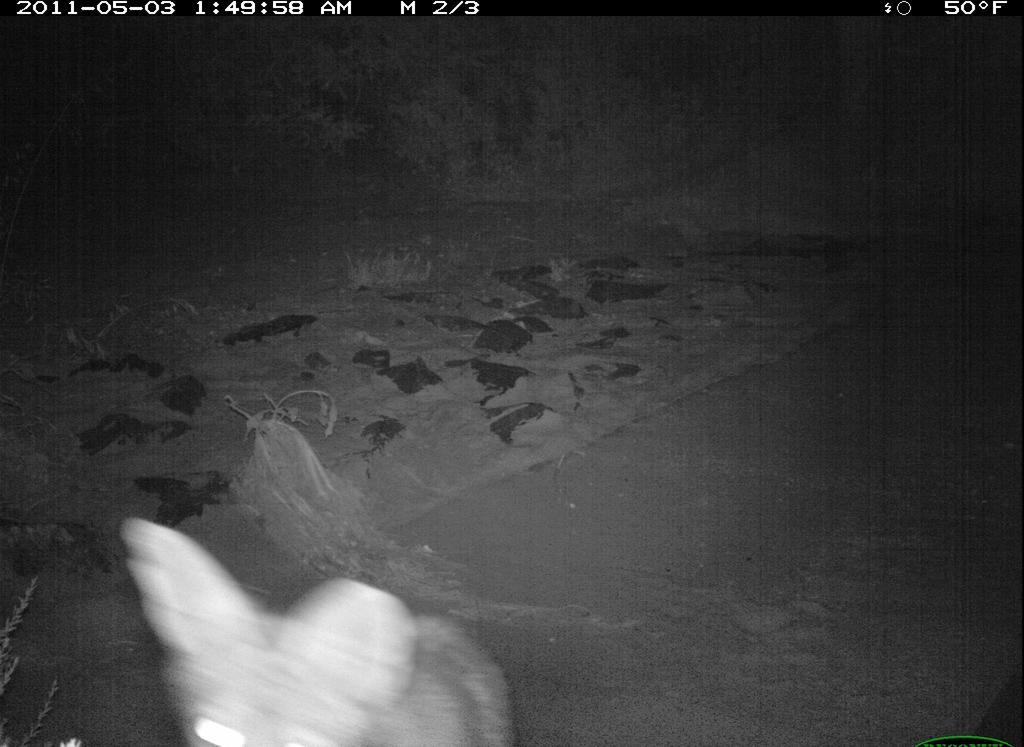coyote: (108, 510, 526, 747)
